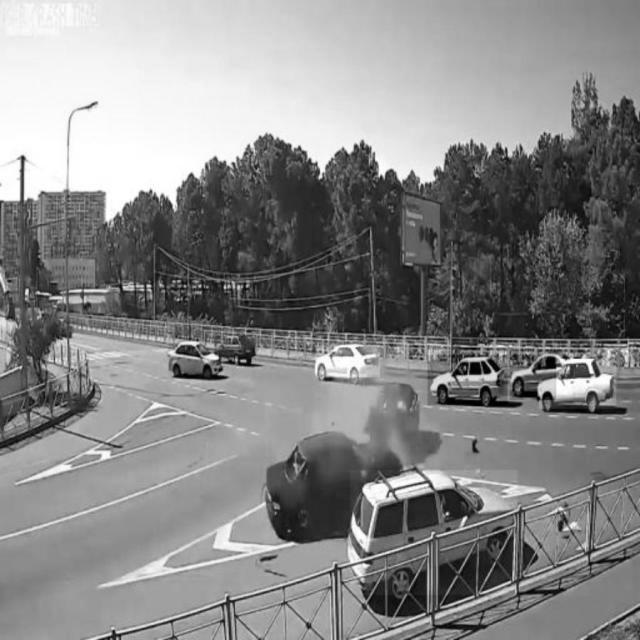accident: (265, 378, 422, 538)
vehicle: (350, 470, 518, 596), (427, 356, 507, 406), (539, 360, 616, 410), (315, 346, 379, 383), (169, 338, 224, 378), (511, 355, 557, 400), (215, 327, 255, 367)
